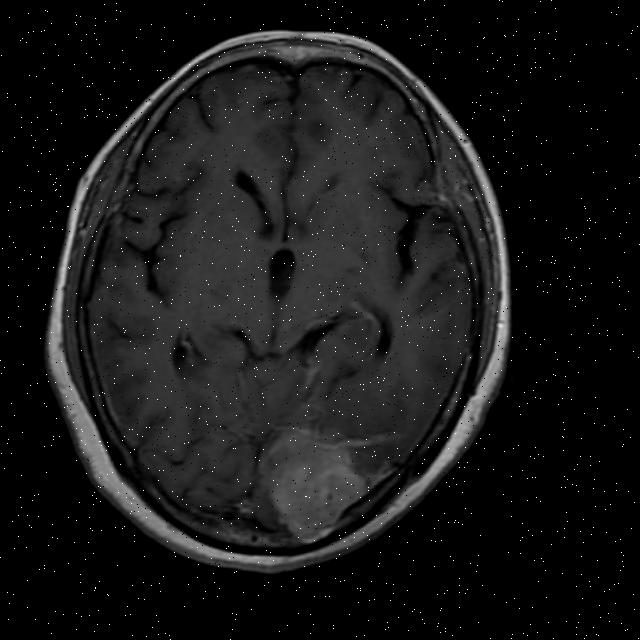Meningioma: (261, 420, 377, 546)
